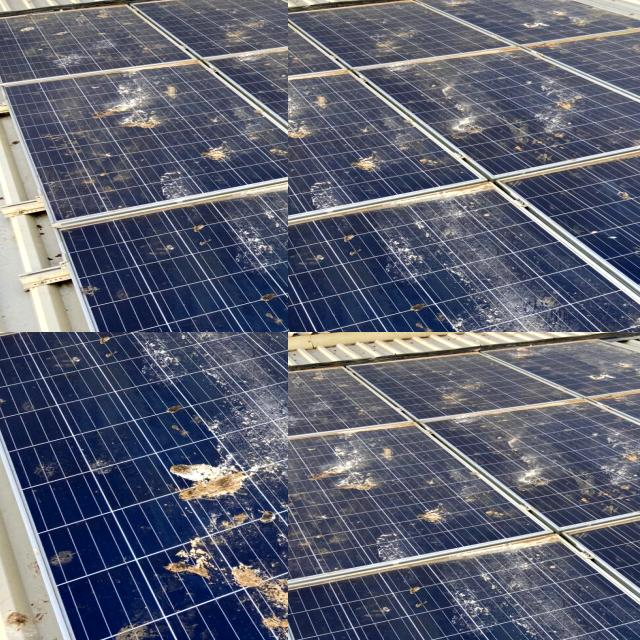bird: (0, 82, 54, 200), (298, 432, 398, 490), (497, 445, 575, 503), (204, 158, 280, 213), (85, 162, 163, 215), (188, 46, 256, 103), (430, 358, 492, 419), (386, 496, 456, 532), (559, 349, 640, 377), (159, 15, 260, 34), (0, 0, 137, 14), (168, 0, 288, 10), (157, 332, 192, 342), (32, 332, 58, 343), (83, 332, 111, 342), (40, 332, 86, 338), (110, 332, 148, 339), (0, 332, 22, 344), (99, 332, 138, 338), (165, 332, 192, 338), (0, 332, 20, 340), (0, 332, 16, 338), (0, 332, 11, 338), (0, 332, 15, 336), (0, 332, 8, 338)
dust: (379, 290, 451, 330), (497, 120, 562, 162)
